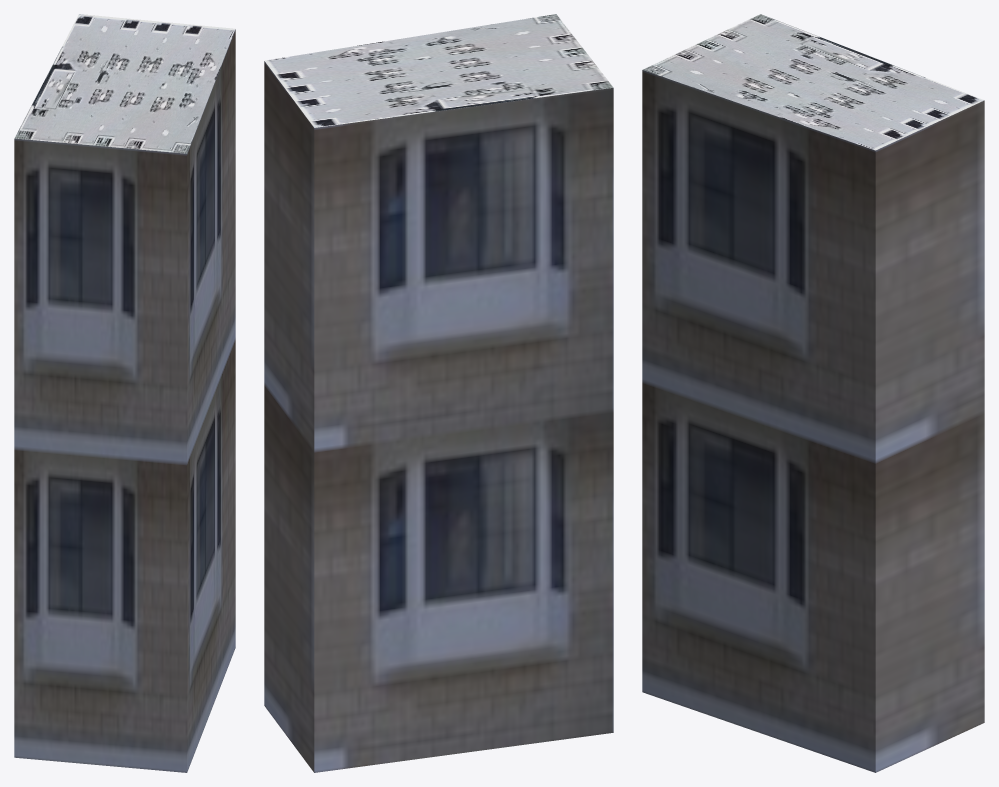
The model's file is ResTex__3152.fbx.
3 renders of one model, left to right at view 1: azimuth 30°, elevation 25°; view 2: azimuth 150°, elevation 25°; view 3: azimuth 270°, elevation 25°, orthographic. The views are drawn at different scales.
Visible parts, largest first — view 1: CityEngineMaterial_3_m, CityEngineMaterial_2_m; view 2: CityEngineMaterial_3_m, CityEngineMaterial_2_m; view 3: CityEngineMaterial_3_m, CityEngineMaterial_2_m.
Part boxes in pixels (x1,y1,x2,y2): CityEngineMaterial_3_m: (14, 29, 235, 772); CityEngineMaterial_2_m: (14, 14, 235, 153); CityEngineMaterial_3_m: (264, 61, 613, 772); CityEngineMaterial_2_m: (264, 14, 613, 127); CityEngineMaterial_3_m: (642, 70, 984, 772); CityEngineMaterial_2_m: (642, 14, 983, 150).
Bounding box in the file's own units: 2.82 × 6 × 2.99.
Materials: 2 (2 with a texture image).
